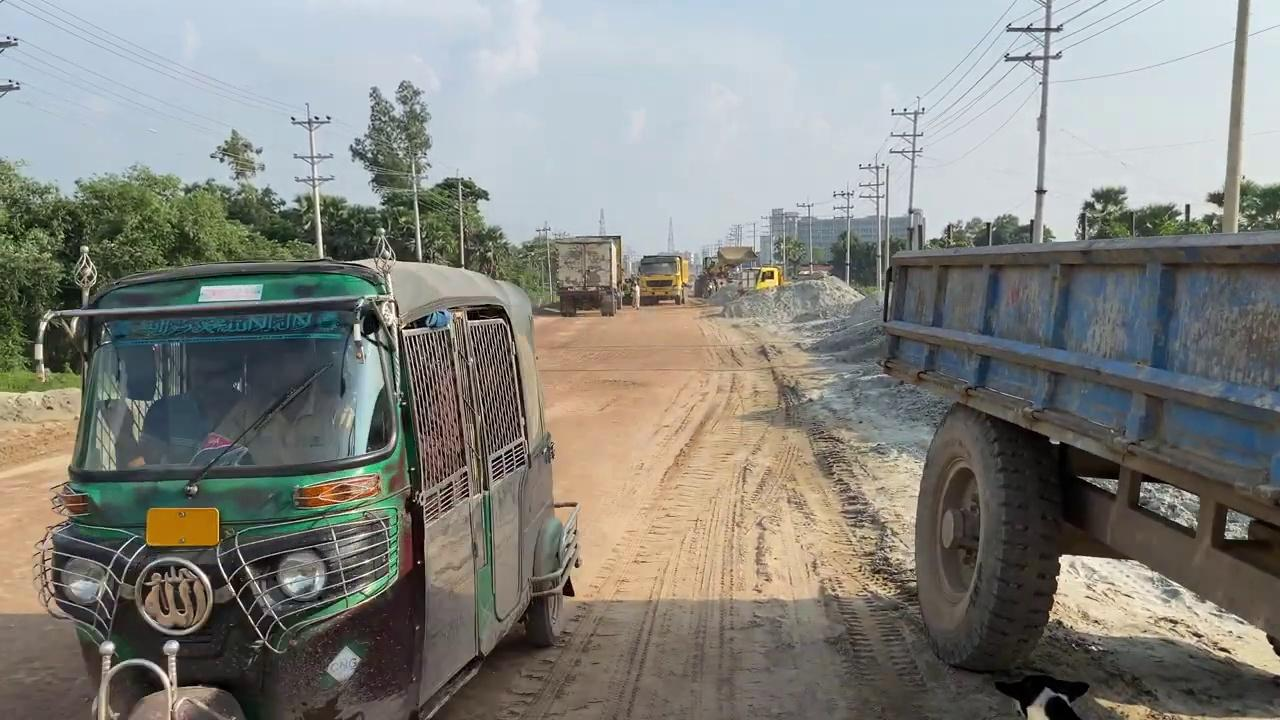Dog: (992, 672, 1090, 719)
Pole: (1003, 0, 1063, 242), (1030, 0, 1060, 242), (289, 102, 333, 258), (1221, 0, 1250, 232)
Tree: (31, 241, 582, 718), (878, 228, 1279, 672), (551, 234, 623, 317), (693, 245, 758, 298), (633, 253, 689, 305), (693, 257, 727, 298), (755, 265, 783, 289)
